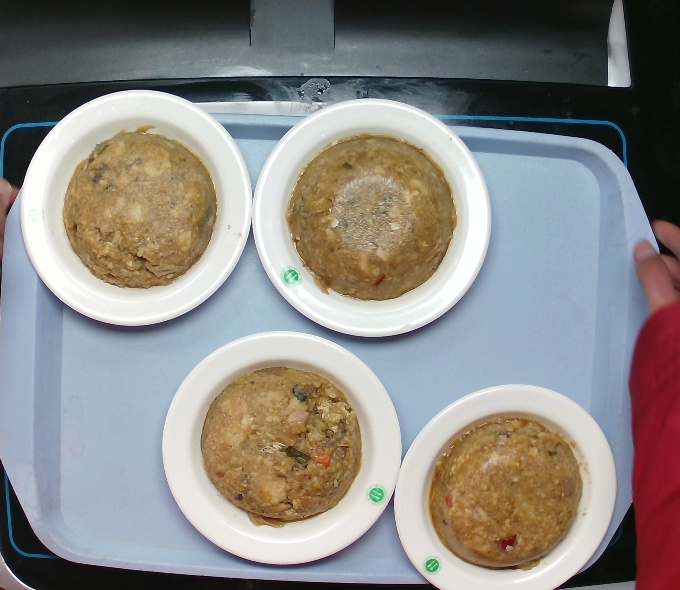wcq-YuDong: (185, 355, 374, 538), (283, 125, 458, 313), (47, 119, 229, 299), (430, 409, 584, 578)
